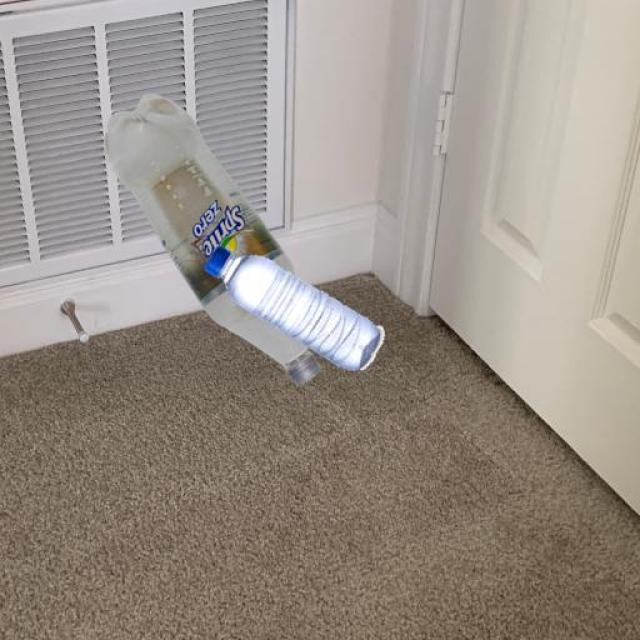bottle: (94, 80, 331, 392), (201, 238, 393, 388)
